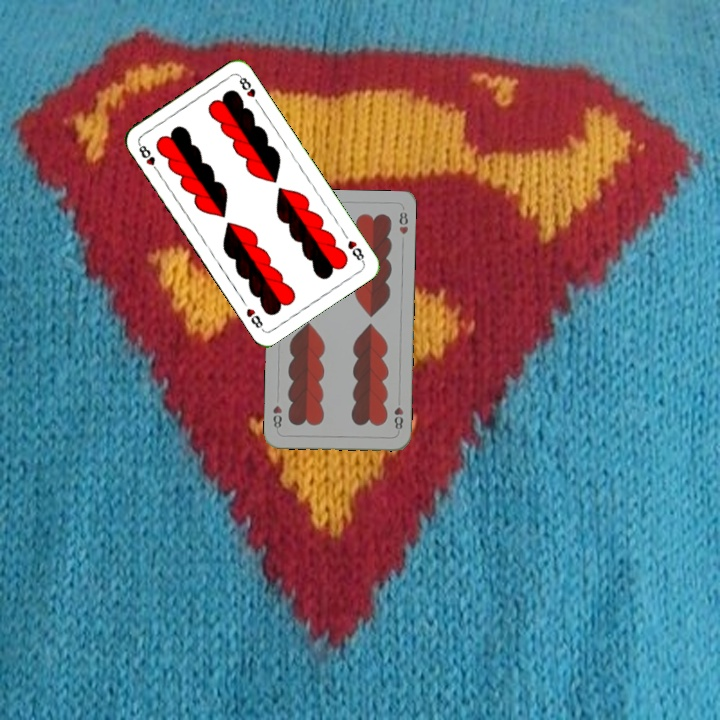H8: (134, 139, 162, 175), (343, 236, 367, 265), (390, 403, 406, 435)
